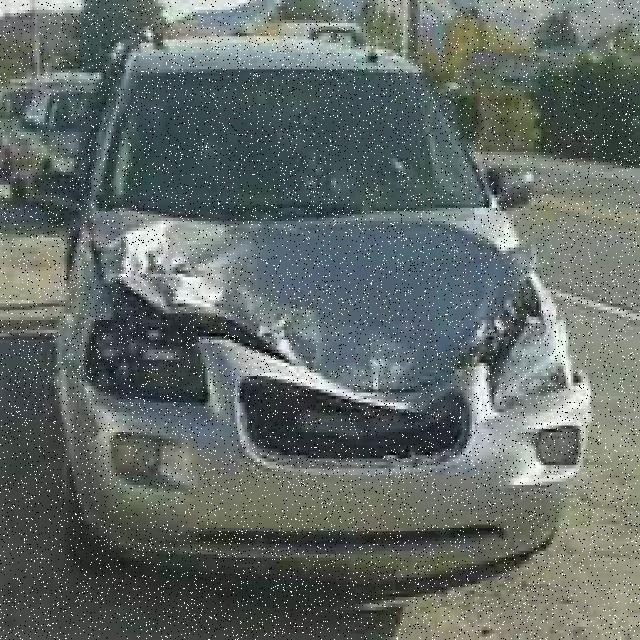Headlight-Damage: (477, 287, 590, 422)
bonnet-dent: (88, 201, 490, 396)
